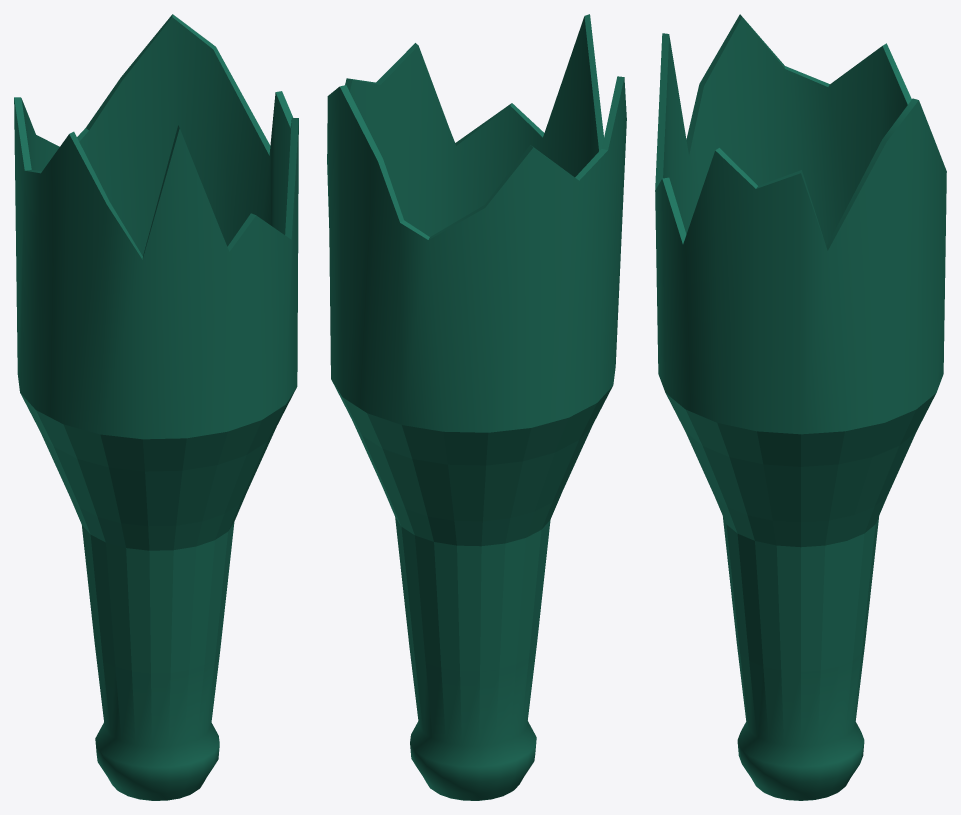
The model's file is botella_rota.fbx.
3 renders of one model, left to right at view 1: azimuth 30°, elevation 25°; view 2: azimuth 150°, elevation 25°; view 3: azimuth 270°, elevation 25°, orthographic.
Parts seen in each view (by area): view 1: botella_rota; view 2: botella_rota; view 3: botella_rota.
Part boxes in pixels (left/top/right/bottom): botella_rota: left=14, top=14, right=298, bottom=800; botella_rota: left=327, top=14, right=626, bottom=800; botella_rota: left=655, top=14, right=946, bottom=800.
Size of the model in its own units: 0.3556 by 0.9539 by 0.3473.
